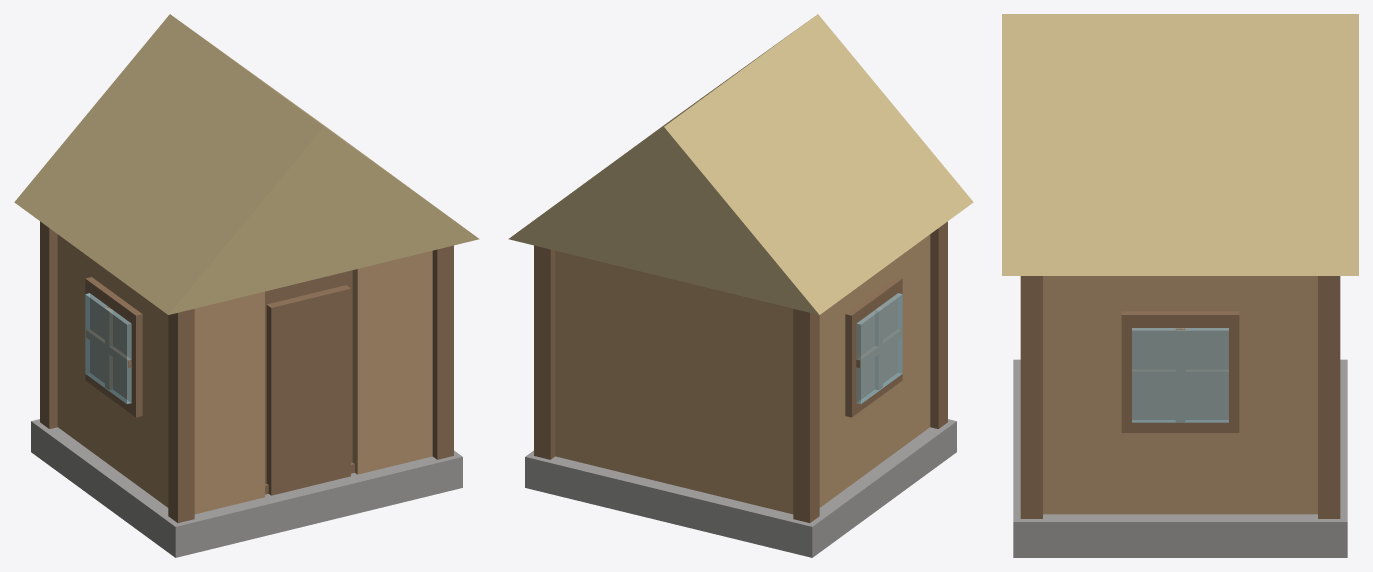
File: BLD-shed-01.glb
The picture shows the model from 3 angles, left to right: view 1: azimuth 30°, elevation 25°; view 2: azimuth 150°, elevation 25°; view 3: azimuth 270°, elevation 25°; orthographic projection. The views are drawn at different scales.
Visible parts, largest first — view 1: BLD-shed-01; view 2: BLD-shed-01; view 3: BLD-shed-01.
Boxes of the visible parts, bbox=[...] form: BLD-shed-01: bbox=[14, 14, 479, 557]; BLD-shed-01: bbox=[508, 14, 973, 557]; BLD-shed-01: bbox=[1002, 14, 1358, 557].
Bounding box in the file's own units: 3.36 × 4.12 × 2.88.
